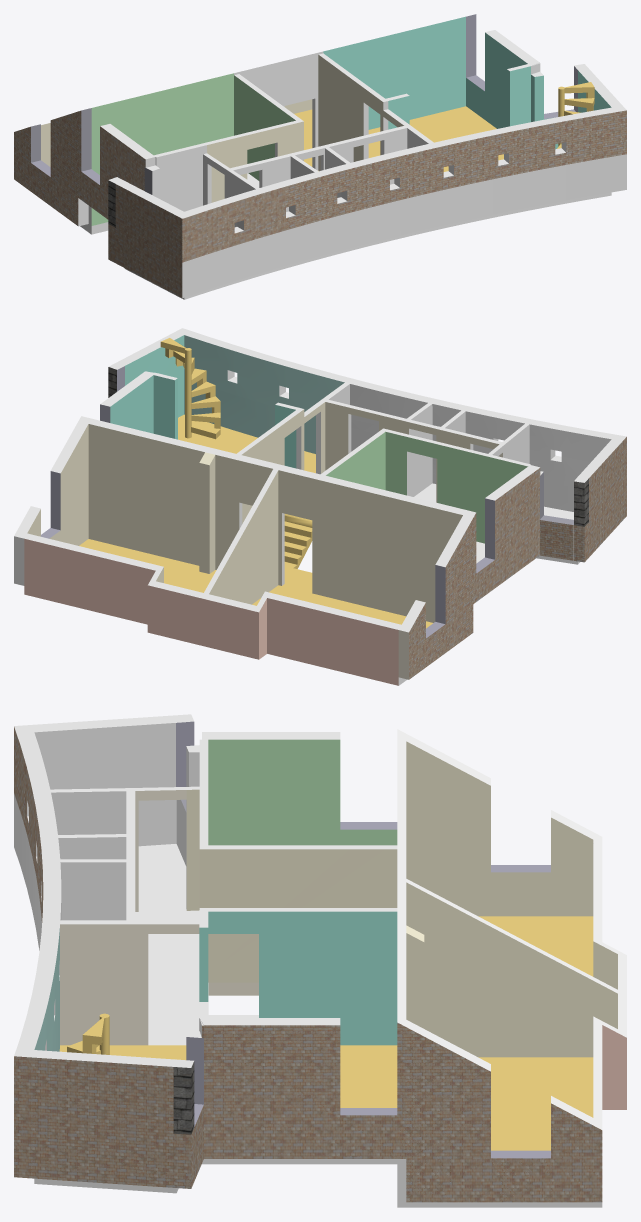
3 views of the same model, one above another, from view 1: azimuth 30°, elevation 25°; view 2: azimuth 150°, elevation 25°; view 3: azimuth 270°, elevation 25° (orthographic). The views are drawn at different scales.
Parts seen in each view (by area): view 1: 01_EV; view 2: 01_EV; view 3: 01_EV.
Part boxes in pixels (left/top/right/bottom): 01_EV: left=14, top=14, right=626, bottom=299; 01_EV: left=14, top=328, right=626, bottom=685; 01_EV: left=14, top=714, right=626, bottom=1207.
Bounding box in the file's own units: 0.14 × 0.1025 × 0.0356.
Materials: 16 (2 with a texture image).
